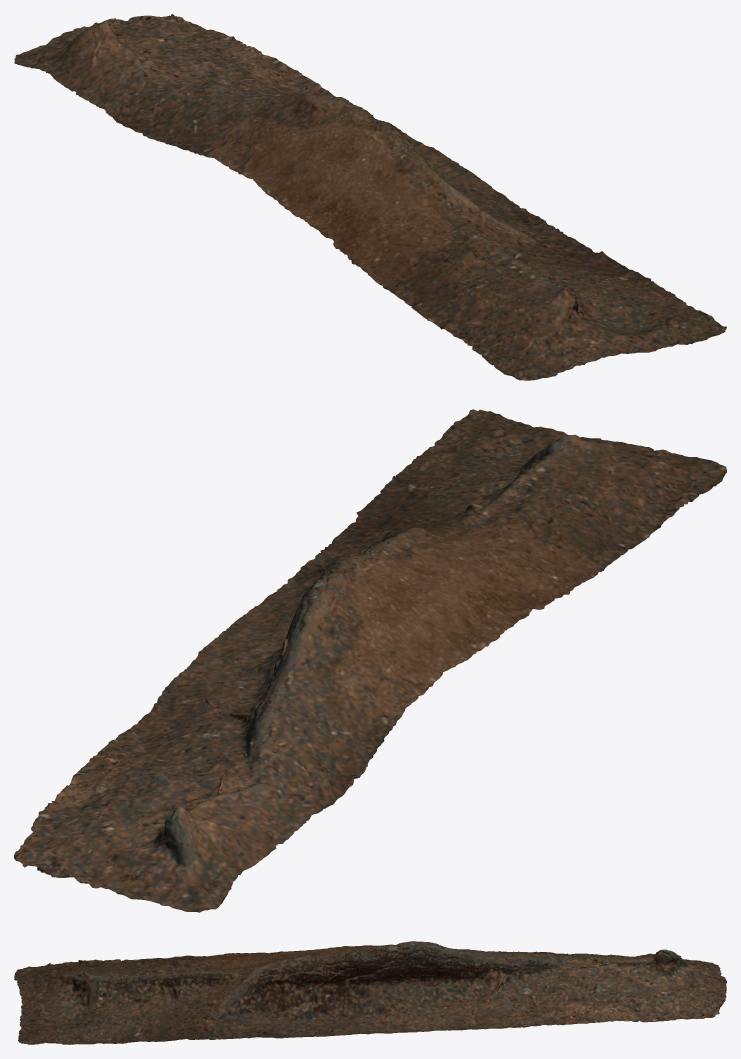
The picture shows the model from 3 angles, top to bottom: view 1: azimuth 30°, elevation 25°; view 2: azimuth 150°, elevation 25°; view 3: azimuth 270°, elevation 25°; orthographic projection. The views are drawn at different scales.
Parts seen in each view (by area): view 1: single_root; view 2: single_root; view 3: single_root.
Part boxes in pixels (<box>): single_root: <box>14,14,726,380</box>; single_root: <box>14,409,726,912</box>; single_root: <box>14,941,726,1044</box>.
Bounding box in the file's own units: 0.5552 × 0.1779 × 1.84.
1 material, 1 textured.
